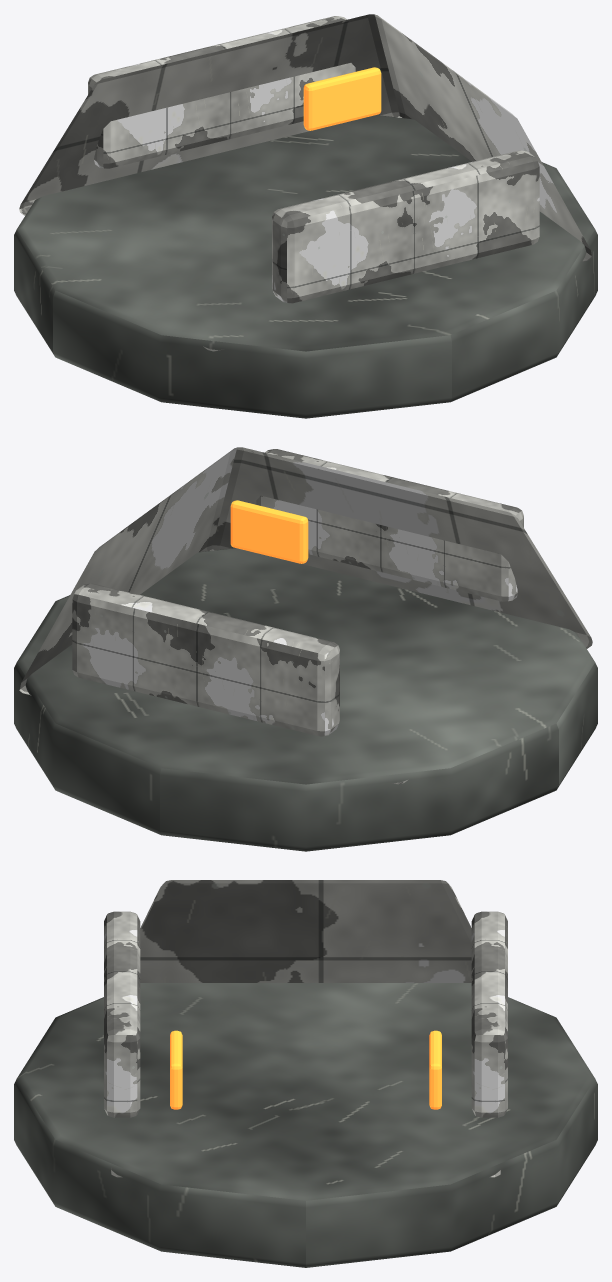
The model's file is anti_tank_turret_body.glb.
3 renders of one model, top to bottom at view 1: azimuth 30°, elevation 25°; view 2: azimuth 150°, elevation 25°; view 3: azimuth 270°, elevation 25°, orthographic.
Visible parts, largest first — view 1: anti_tank_turret_body_concrete_dark, anti_tank_turret_body_team_accent, anti_tank_turret_body_team_primary, anti_tank_turret_body_warning_emissive; view 2: anti_tank_turret_body_concrete_dark, anti_tank_turret_body_team_accent, anti_tank_turret_body_team_primary, anti_tank_turret_body_warning_emissive; view 3: anti_tank_turret_body_concrete_dark, anti_tank_turret_body_team_primary, anti_tank_turret_body_team_accent, anti_tank_turret_body_warning_emissive.
Part boxes in pixels (box(x1,y1,x2,y2)): anti_tank_turret_body_concrete_dark: box(14, 115, 597, 418); anti_tank_turret_body_team_accent: box(88, 16, 539, 303); anti_tank_turret_body_team_primary: box(19, 14, 592, 351); anti_tank_turret_body_warning_emissive: box(303, 67, 381, 130); anti_tank_turret_body_concrete_dark: box(14, 548, 597, 851); anti_tank_turret_body_team_accent: box(72, 449, 523, 736); anti_tank_turret_body_team_primary: box(19, 447, 592, 784); anti_tank_turret_body_warning_emissive: box(230, 500, 308, 563); anti_tank_turret_body_concrete_dark: box(14, 983, 597, 1267); anti_tank_turret_body_team_primary: box(111, 880, 500, 1177); anti_tank_turret_body_team_accent: box(104, 911, 507, 1117); anti_tank_turret_body_warning_emissive: box(170, 1030, 441, 1109).
Bounding box in the file's own units: 3 × 1.15 × 3.
Materials: 4 (3 with a texture image).
